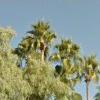Tree: (14, 13, 100, 86)
